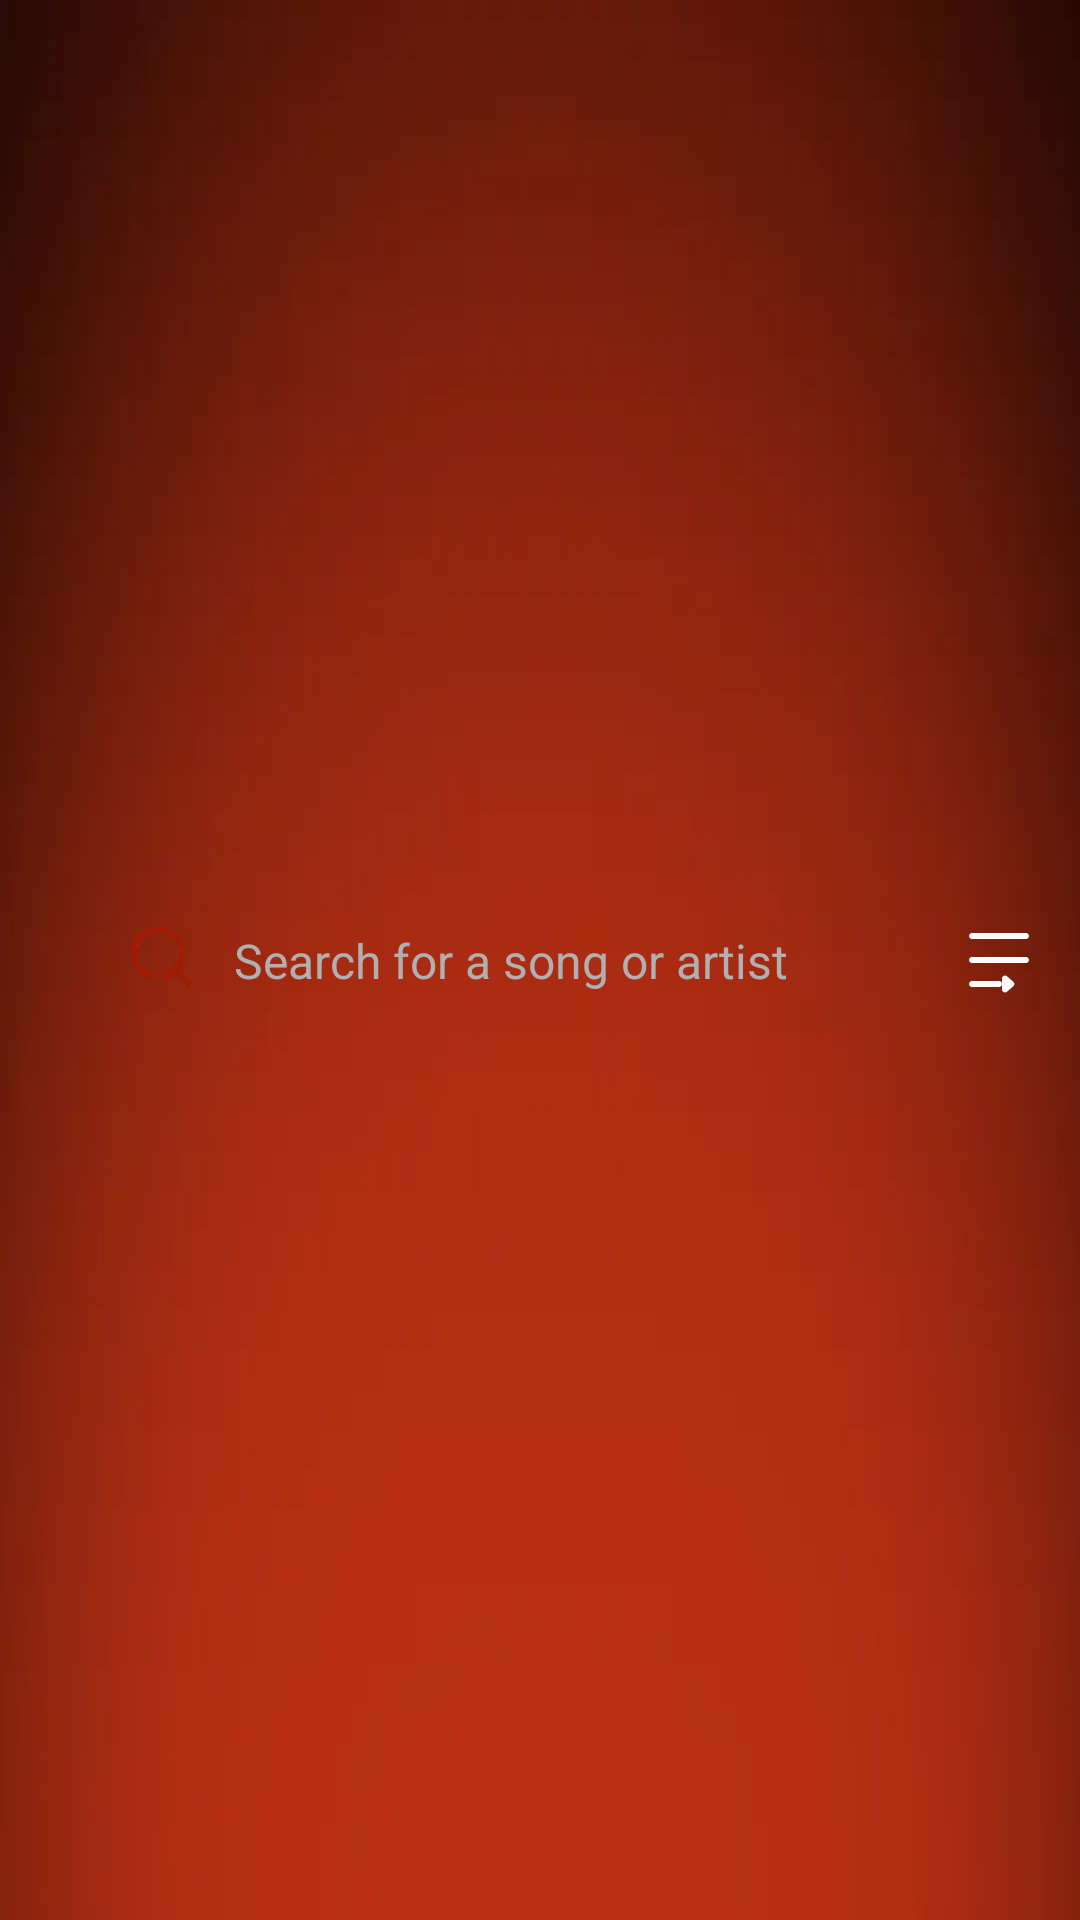

Icon click points for this 1080×1920 phone screenshot, format (x=x, y=y):
home list: (x=991, y=960)
